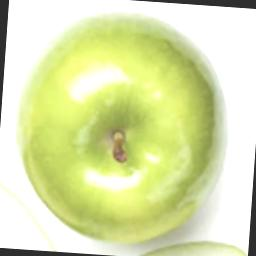Apple Unripe: (1, 14, 242, 256)
